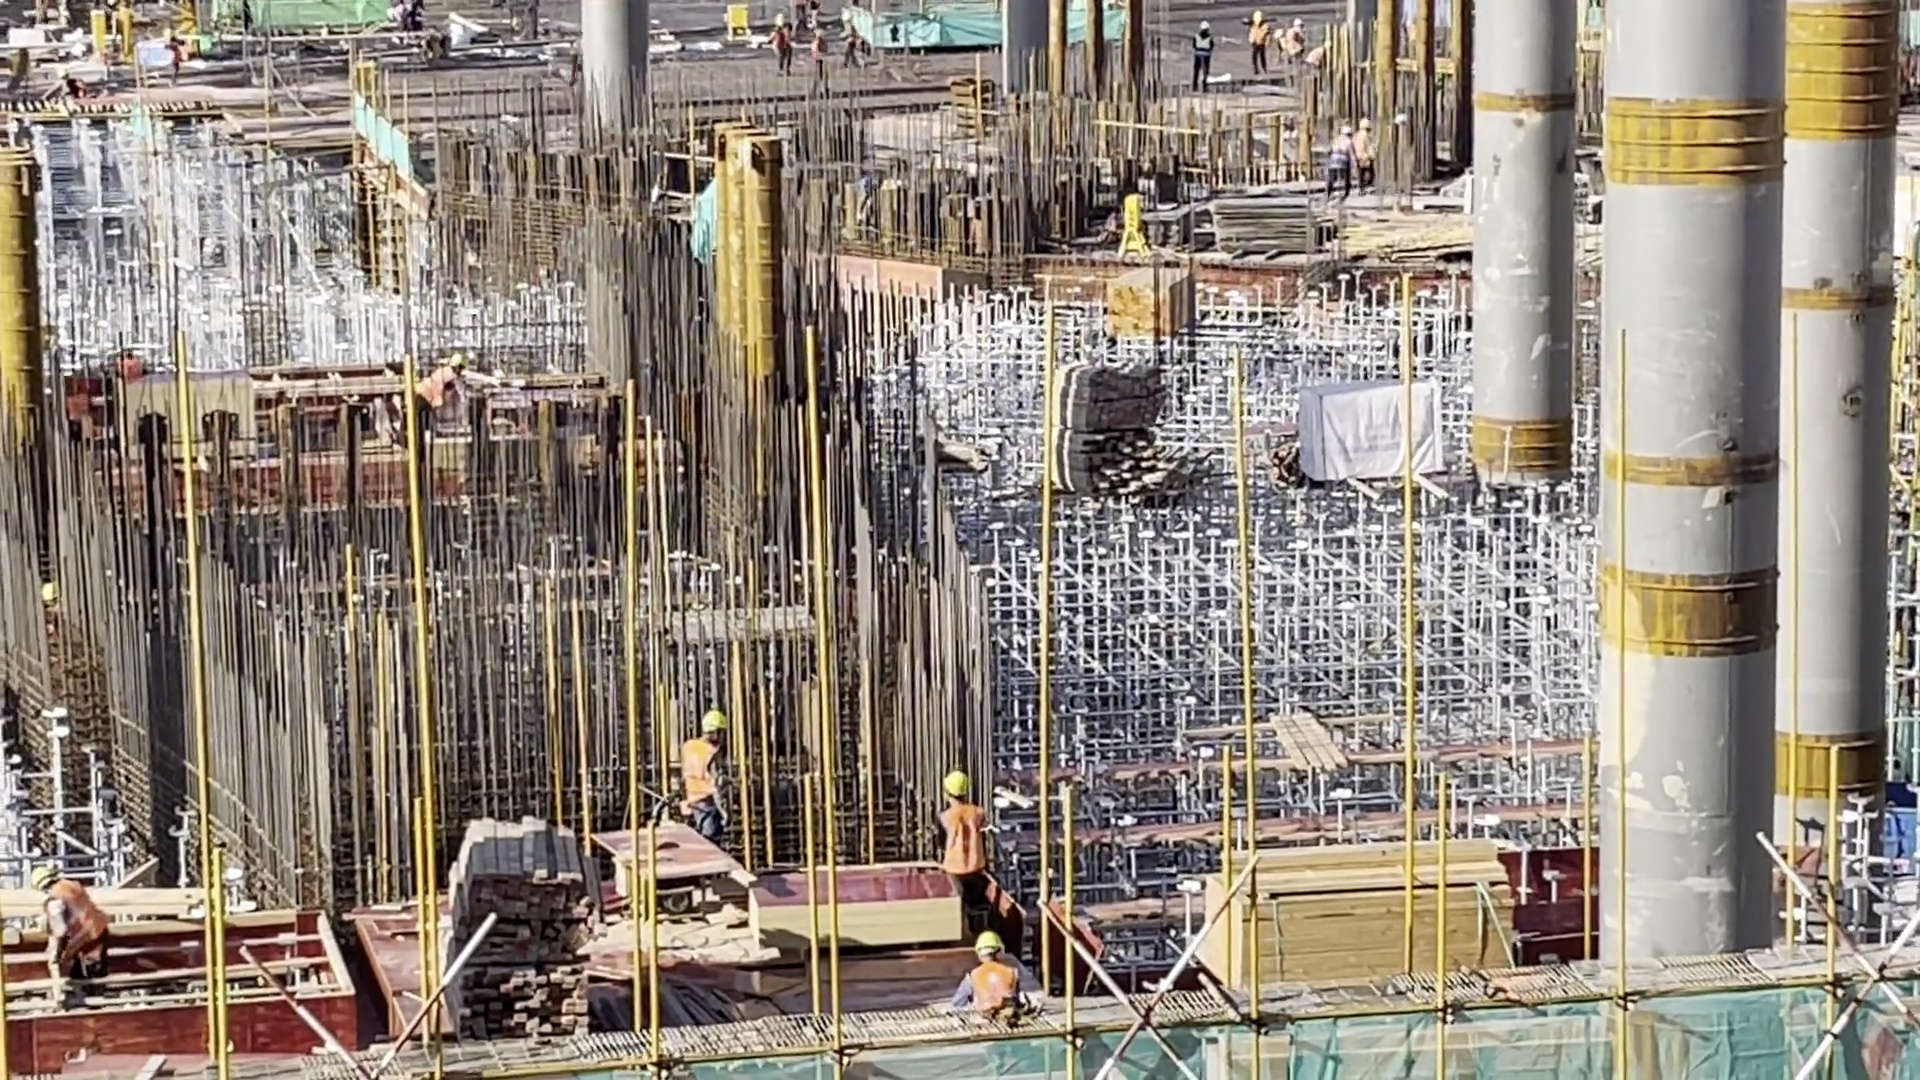board: (774, 866, 999, 949), (1183, 174, 1324, 267)
cutter: (566, 821, 739, 906)
helmet: (31, 856, 69, 896), (936, 774, 969, 799), (699, 709, 721, 736), (978, 934, 1001, 956), (450, 355, 471, 375), (771, 13, 785, 28), (1361, 116, 1373, 128), (814, 28, 826, 38), (1251, 12, 1267, 20), (1339, 127, 1354, 135), (1326, 38, 1335, 54), (56, 73, 69, 80), (842, 9, 850, 22), (1288, 18, 1304, 25), (163, 30, 173, 41), (1203, 22, 1213, 32), (1273, 28, 1285, 36)
person: (26, 858, 118, 991), (679, 701, 733, 854), (928, 771, 993, 893), (415, 343, 473, 426), (966, 928, 1008, 1026), (1180, 19, 1222, 90), (1325, 119, 1355, 202), (1307, 39, 1339, 87), (772, 16, 795, 78), (1247, 11, 1269, 77), (65, 384, 95, 429), (56, 66, 91, 102), (1360, 105, 1377, 179), (114, 341, 144, 383), (163, 26, 182, 87), (812, 26, 830, 82), (1291, 15, 1308, 70), (836, 13, 852, 68), (1273, 30, 1294, 64)
vest: (58, 885, 122, 953), (939, 811, 987, 876), (683, 746, 722, 801), (973, 964, 1010, 1014), (414, 371, 453, 411), (65, 398, 92, 424), (121, 363, 150, 387), (1329, 138, 1348, 168), (164, 43, 183, 67), (1358, 133, 1372, 167), (1198, 39, 1215, 65), (69, 76, 88, 97), (774, 29, 792, 52), (840, 19, 858, 38), (1289, 33, 1301, 57), (1309, 50, 1325, 69), (815, 45, 823, 72), (1244, 25, 1254, 41), (1277, 37, 1283, 51)
wood: (1196, 836, 1521, 999), (436, 852, 584, 1051), (1116, 277, 1171, 324)
